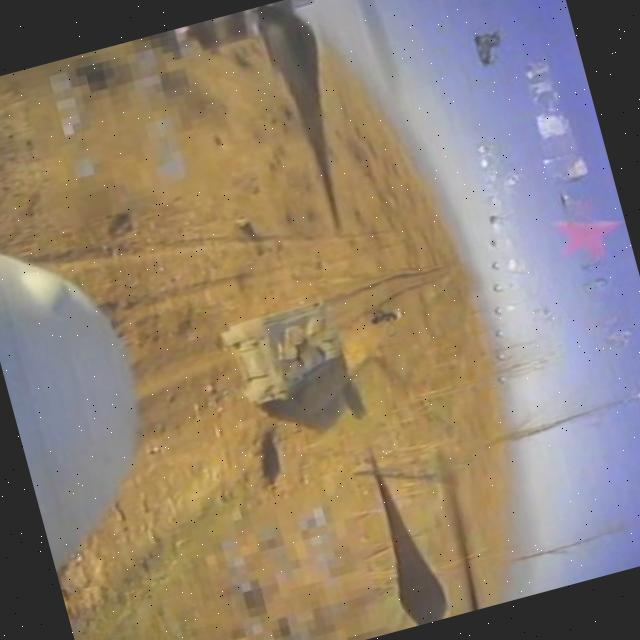APC: (219, 292, 358, 417)
